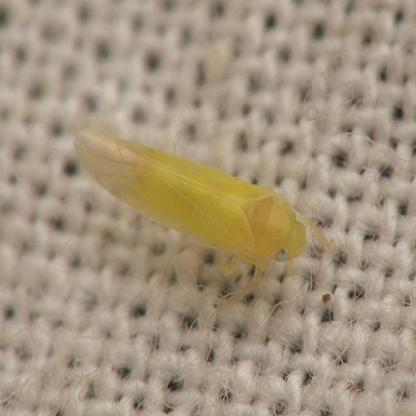green-leafhopper: (75, 130, 336, 304)
